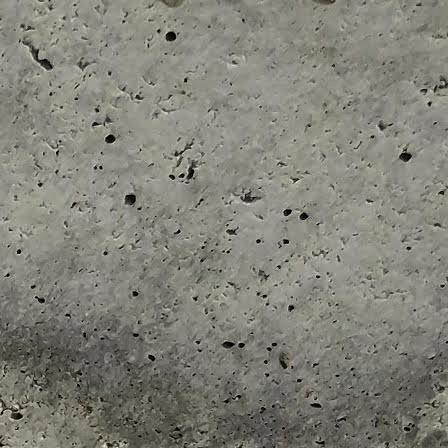hole: (102, 133, 117, 147), (123, 195, 136, 206)
spalling: (0, 394, 27, 429)
